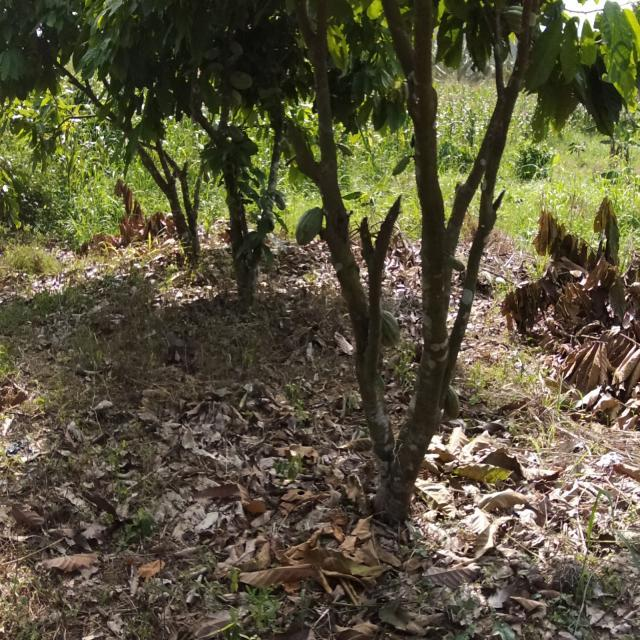Mature_Unripe: (374, 302, 412, 352), (293, 207, 329, 245), (226, 70, 255, 112), (443, 383, 468, 423), (227, 123, 245, 145)
